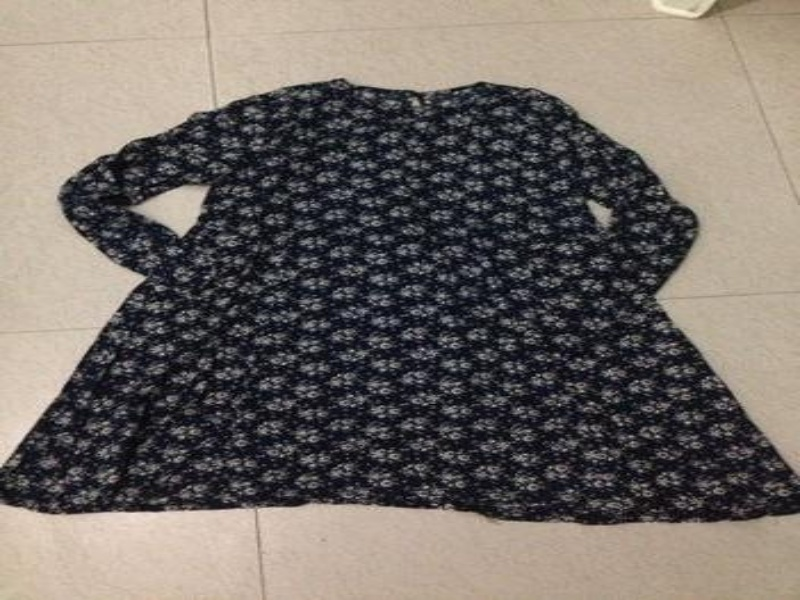long_sleeved_dress: (0, 78, 798, 529)
